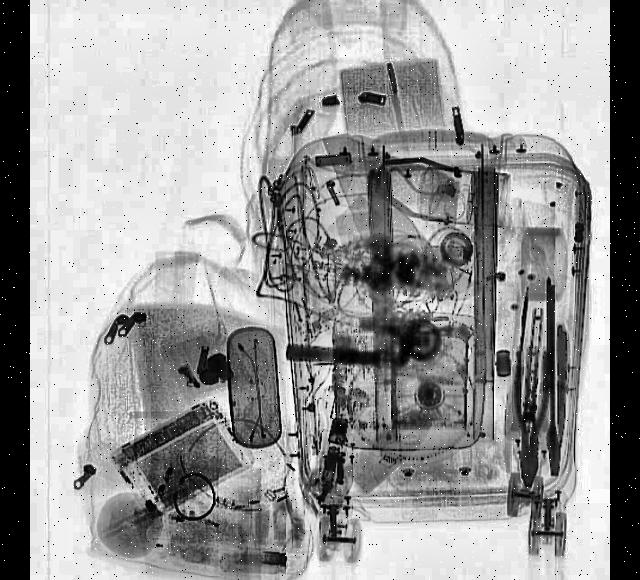Pliers: (510, 344, 550, 486)
